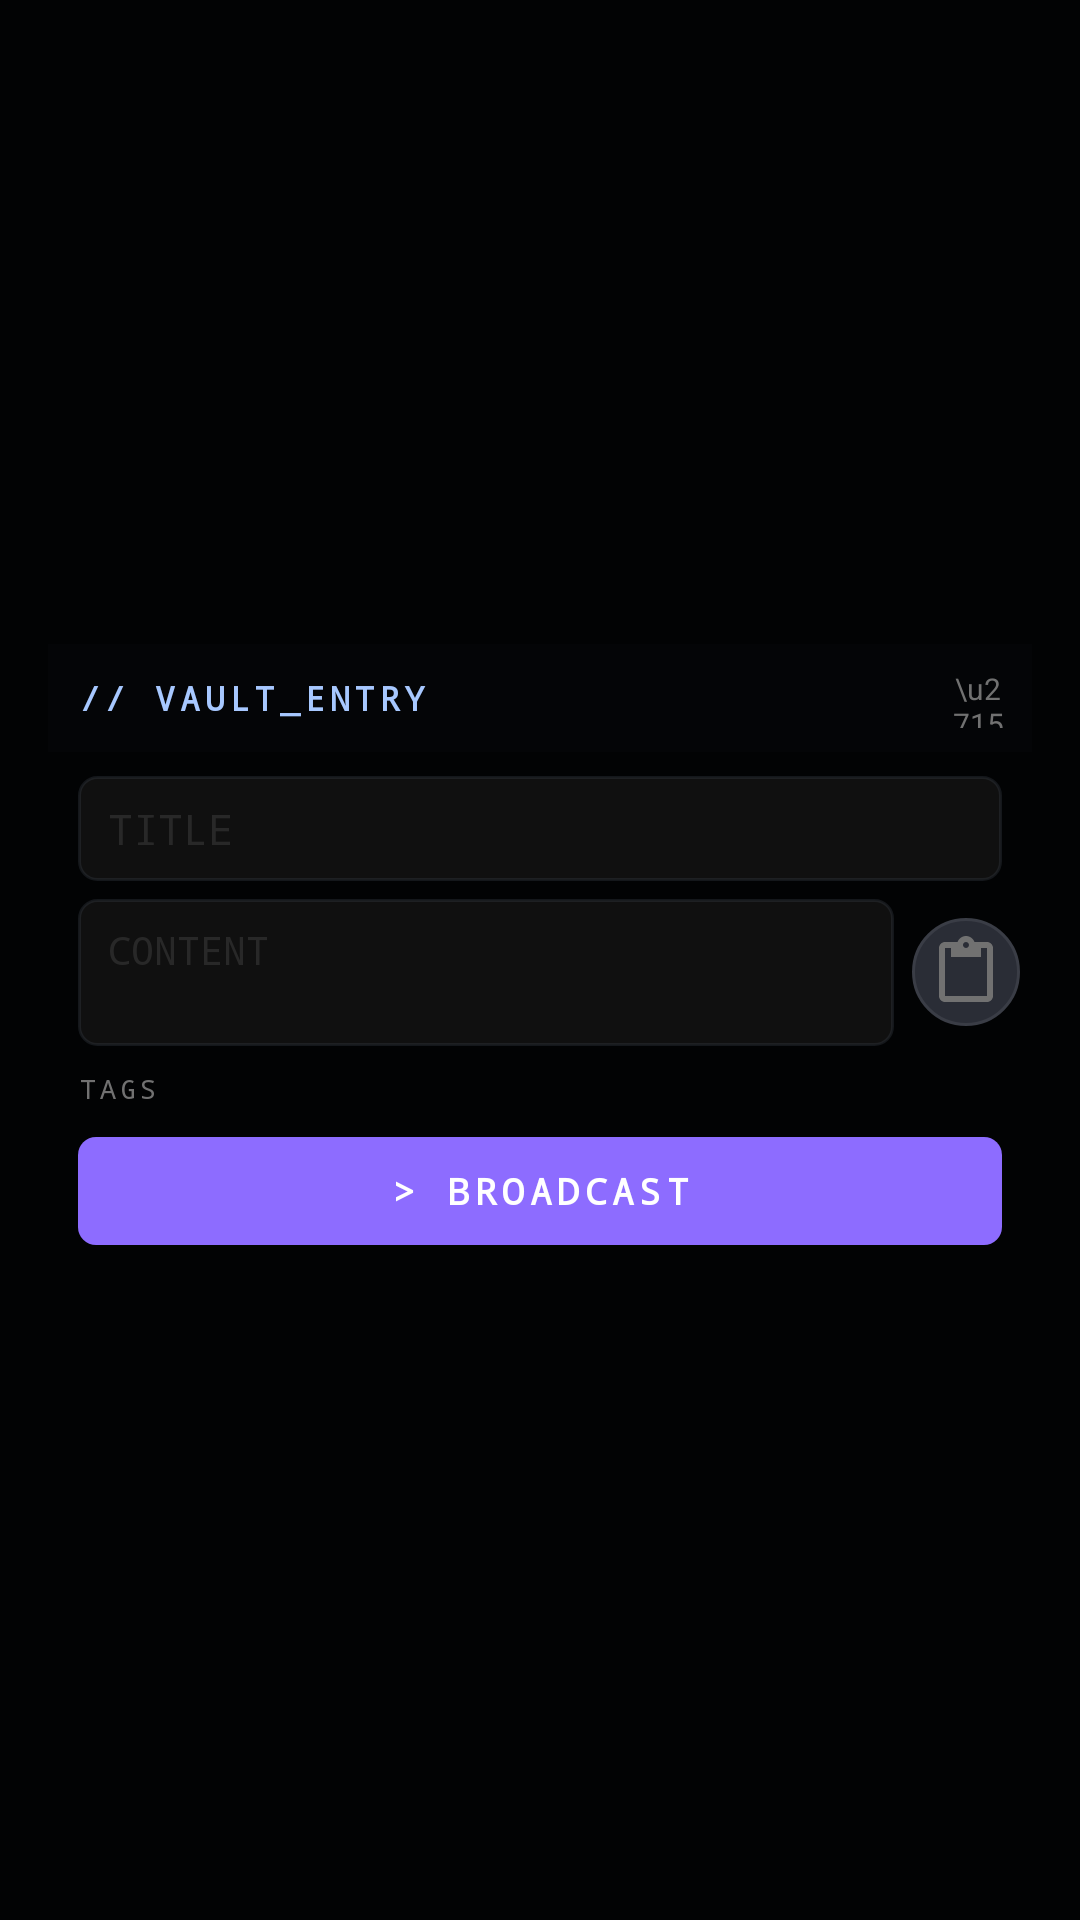

Icon bounding boxes for this 1080px x 1920px phone screenshot, format bbox(x1, y1, x2, y2):
Paste clipboard: bbox(912, 918, 1020, 1026)
